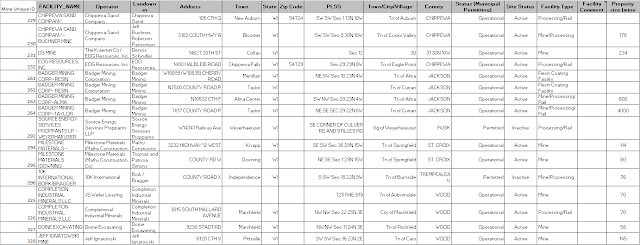fracking table: (1, 2, 640, 244)
